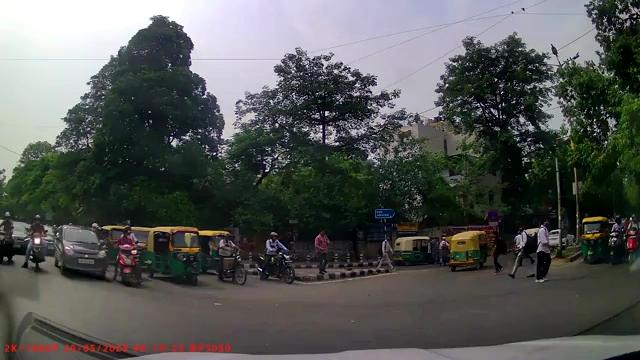motorcycle_with_helmet: (257, 230, 297, 285), (217, 232, 248, 286), (21, 214, 48, 271), (122, 223, 144, 256)
motorcycle_without_helmet: (113, 229, 136, 286)
